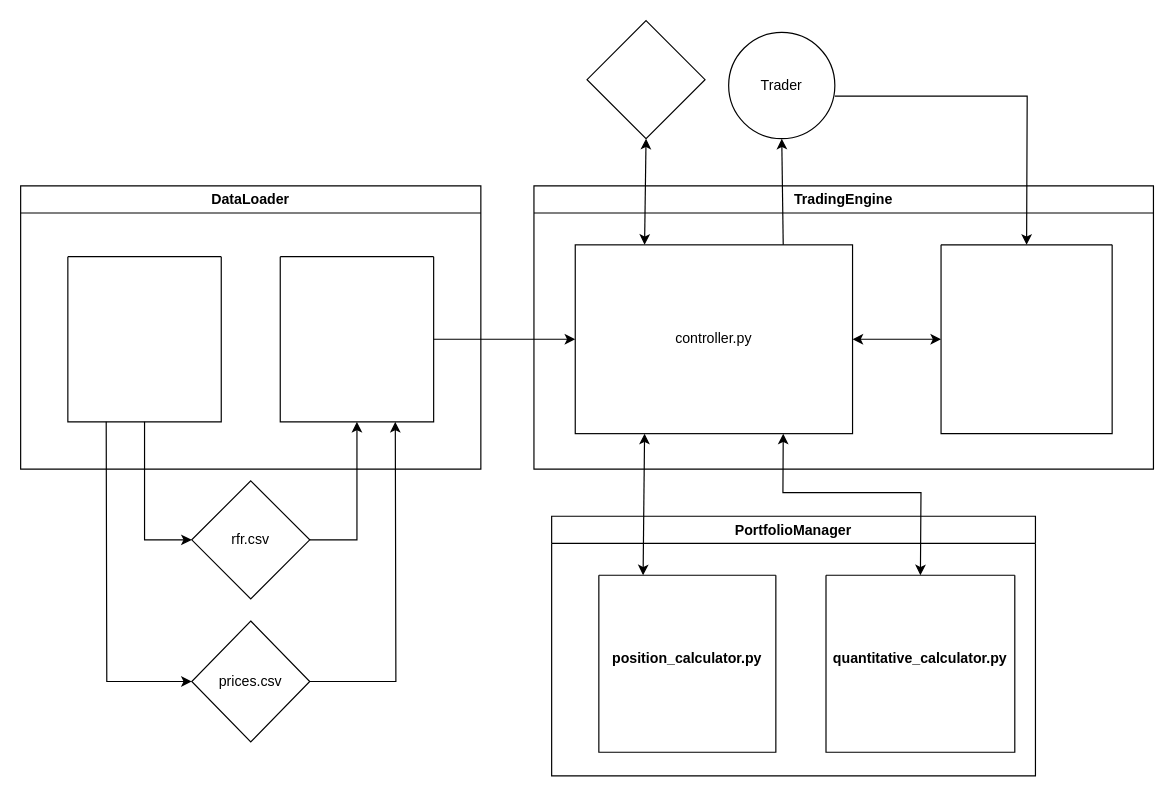
This 1174x796 diagram has some shape labels left out. The box of each missing label's shape, as (x1, y1, x2, y2) in pixels:
data_access.py: (279, 255, 434, 422)
load_data.py: (67, 255, 221, 422)
trades.csv: (586, 19, 705, 139)
trading_engine.py: (940, 244, 1112, 434)
